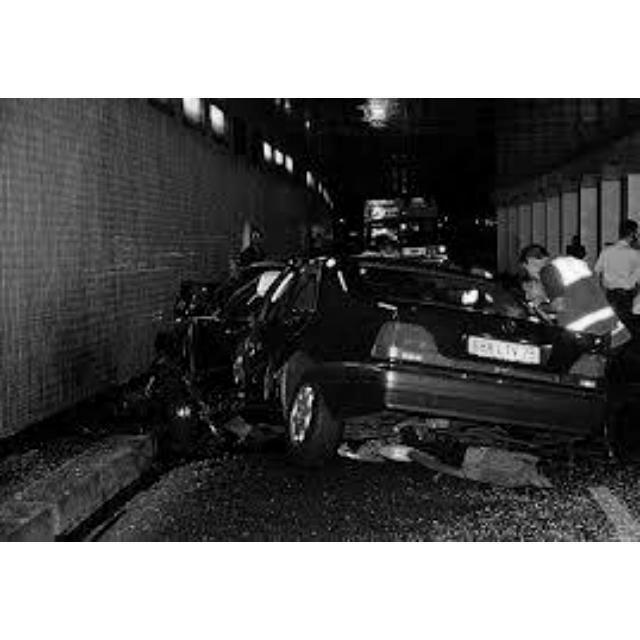doorouter-dent: (188, 315, 254, 400), (267, 313, 321, 386)
rear-bumper-dent: (391, 369, 588, 433)
